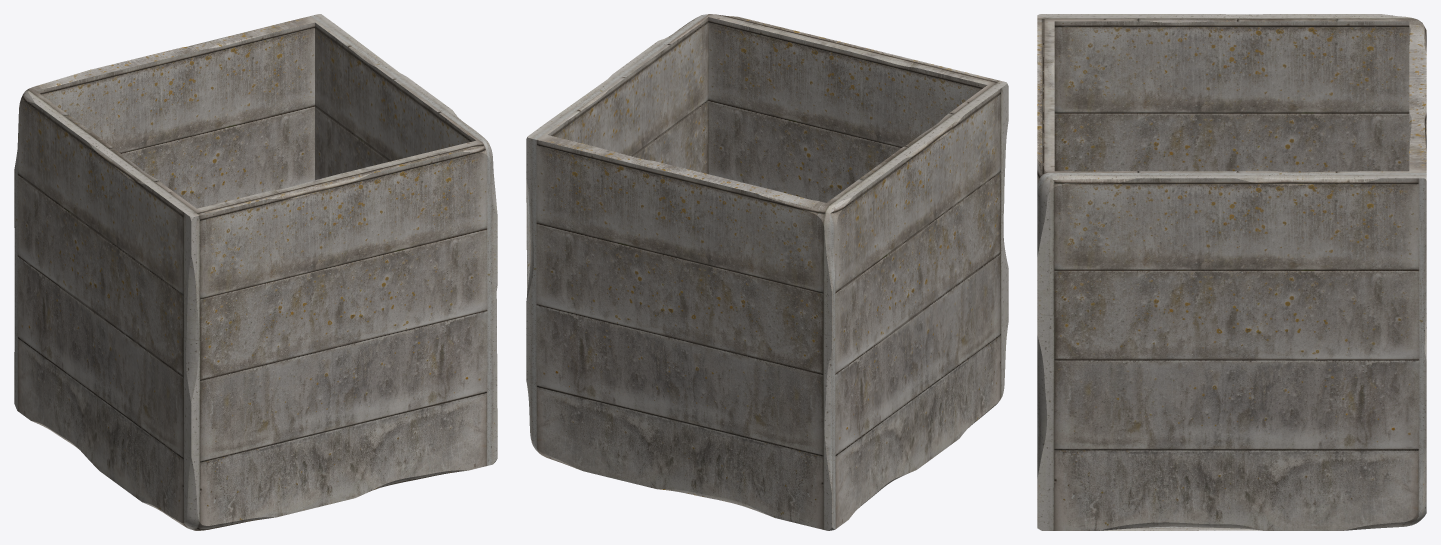
Rendered from Bet_korobka-2.fbx.
3 views of the same model, side by side, from view 1: azimuth 30°, elevation 25°; view 2: azimuth 150°, elevation 25°; view 3: azimuth 270°, elevation 25° (orthographic). The views are drawn at different scales.
Parts seen in each view (by area): view 1: Cube.001_dmg.002; view 2: Cube.001_dmg.002; view 3: Cube.001_dmg.002.
Boxes of the visible parts, <box> form: Cube.001_dmg.002: <box>14,14,497,530</box>; Cube.001_dmg.002: <box>526,14,1008,530</box>; Cube.001_dmg.002: <box>1037,14,1426,530</box>.
Bounding box in the file's own units: 139 × 139 × 139.
